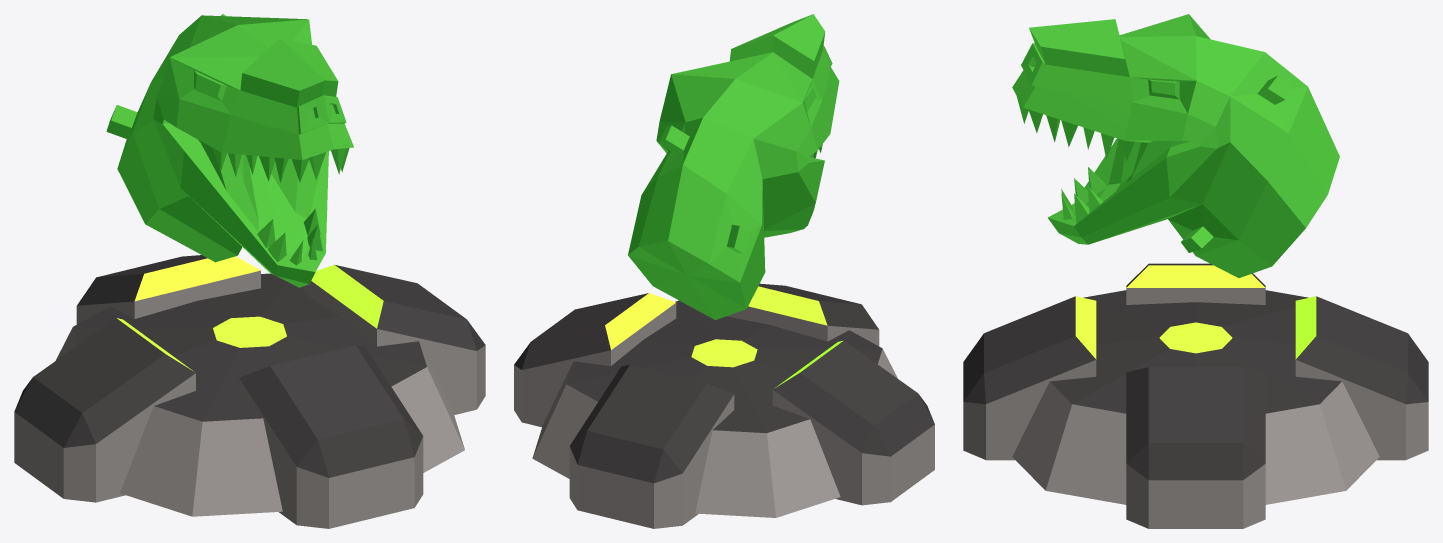
The model's file is scifi_scifi-hologram-monster.fbx.
3 renders of one model, left to right at view 1: azimuth 30°, elevation 25°; view 2: azimuth 150°, elevation 25°; view 3: azimuth 270°, elevation 25°, orthographic. The views are drawn at different scales.
Visible parts, largest first — view 1: scifi_scifi_hologram_monster; view 2: scifi_scifi_hologram_monster; view 3: scifi_scifi_hologram_monster.
Boxes of the visible parts, box(x1,y1,x2,y2) form: scifi_scifi_hologram_monster: box(14, 14, 485, 528); scifi_scifi_hologram_monster: box(514, 14, 934, 528); scifi_scifi_hologram_monster: box(963, 14, 1428, 528).
Size of the model in its own units: 200 by 192 by 200.
